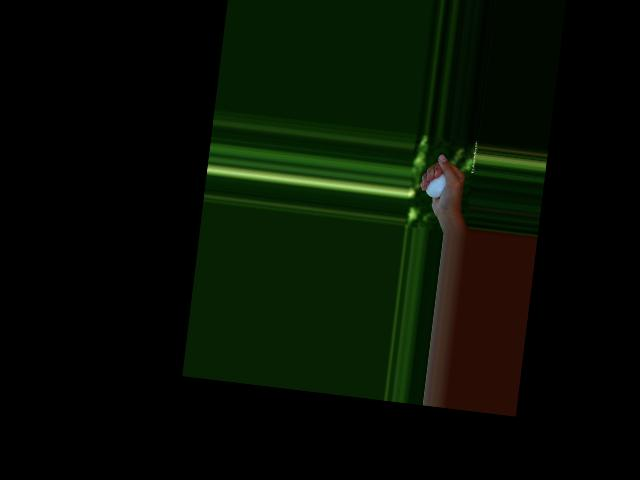egg: (425, 170, 446, 198)
